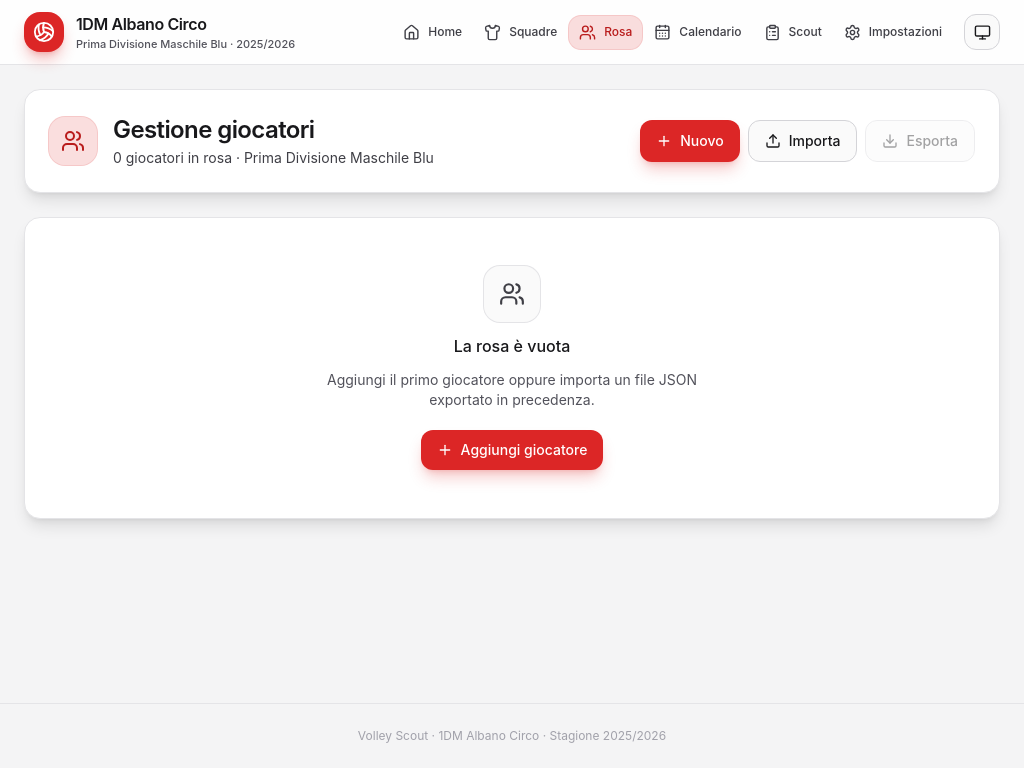
giocatori › aggiunge un giocatore e lo salva in localStorage
Click the button "Nuovo". click: (690, 141)
box: [640, 120, 740, 162]
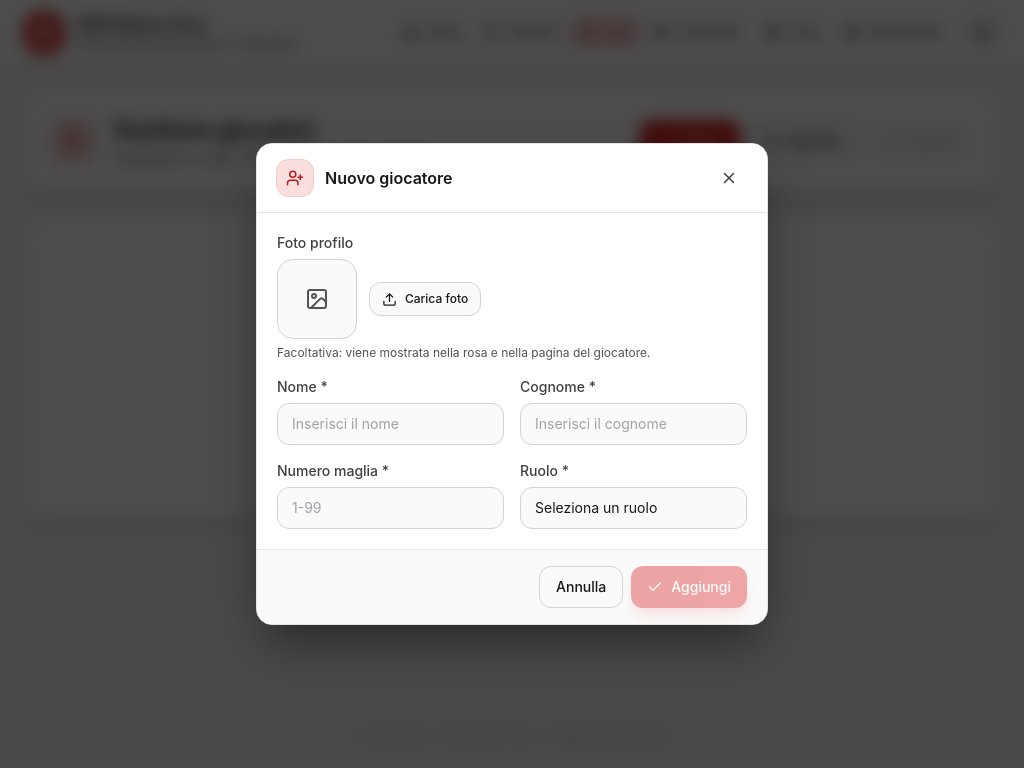
Type "mario" into the field labelled "Nome *". click: (390, 424)
box: [277, 403, 504, 445]
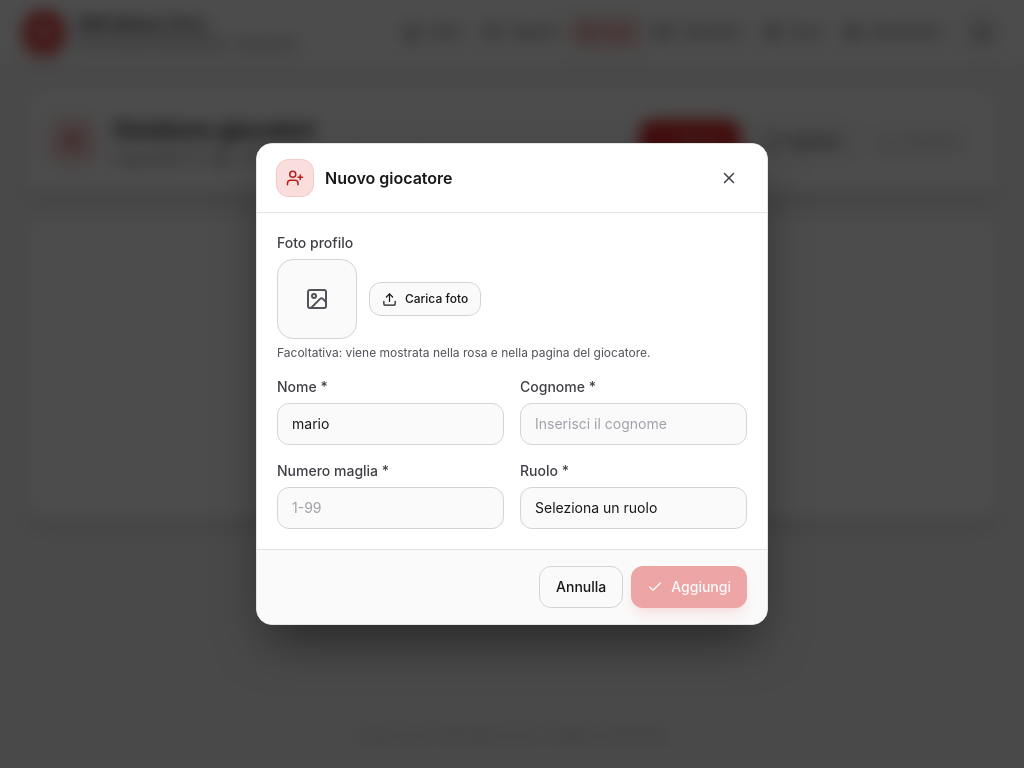
Type "rossi" into the field labelled "Cognome *". click: (634, 424)
box: [520, 403, 747, 445]
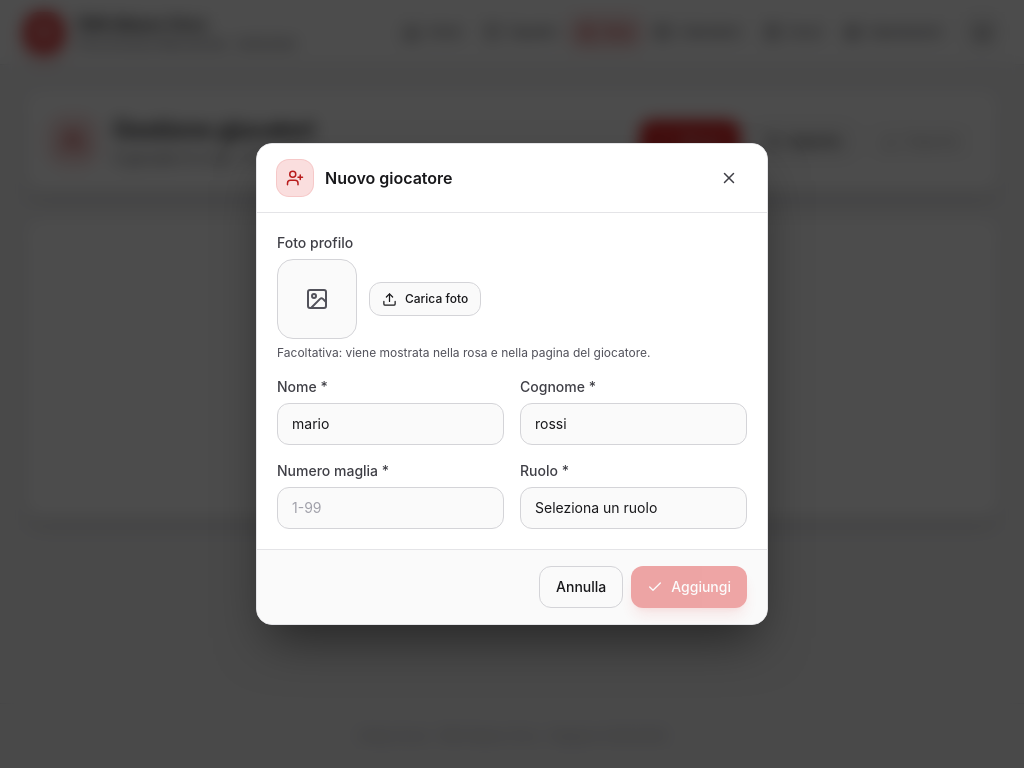
Type "10" into the number field labelled "Numero maglia *". click: (390, 508)
box: [277, 487, 504, 529]
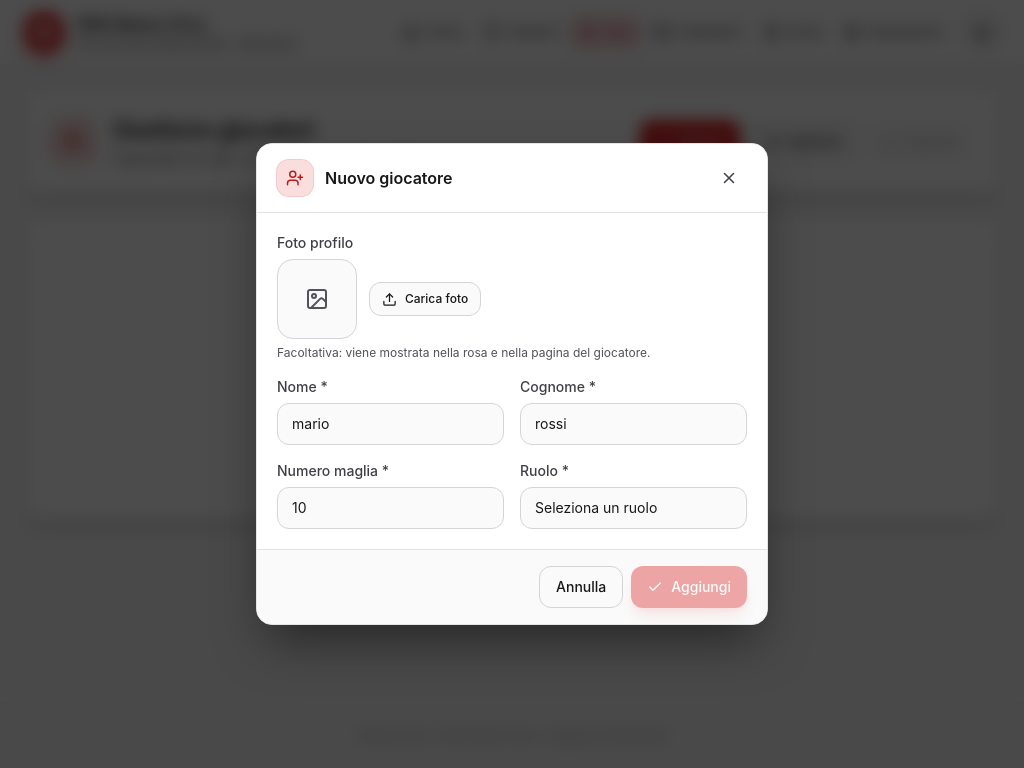
Select "Palleggiatore" in the dropdown labelled "Ruolo *". click: (634, 508)
box: [520, 487, 747, 529]
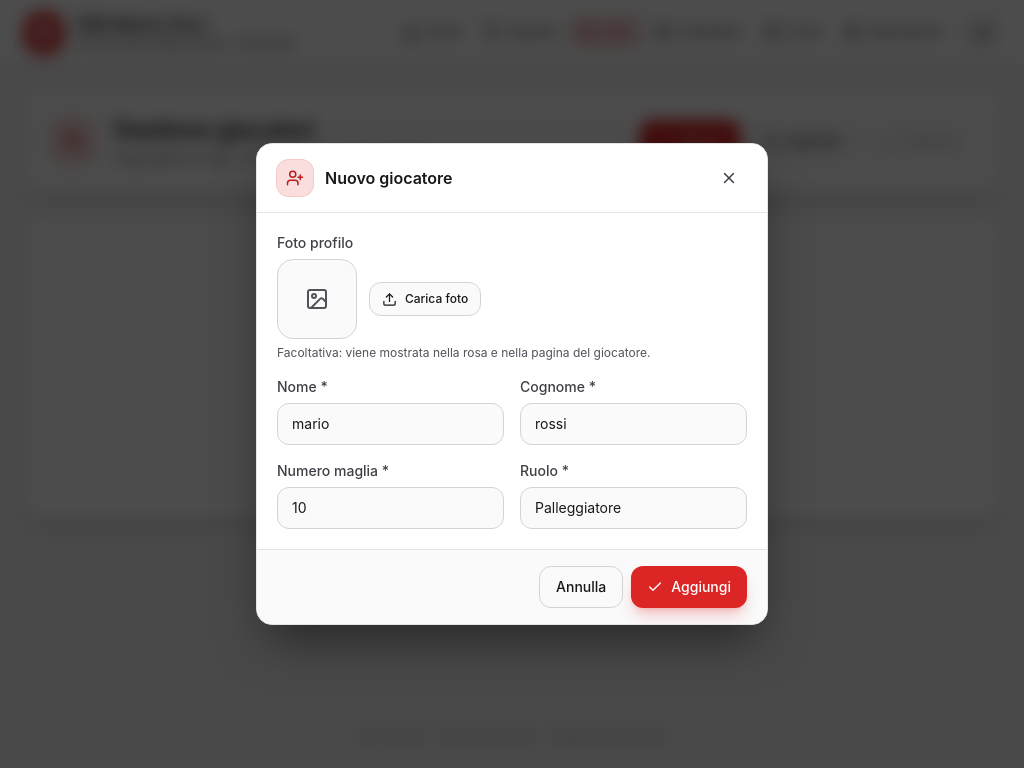
Click the button "Aggiungi". click: (689, 587)
box: [631, 566, 747, 608]
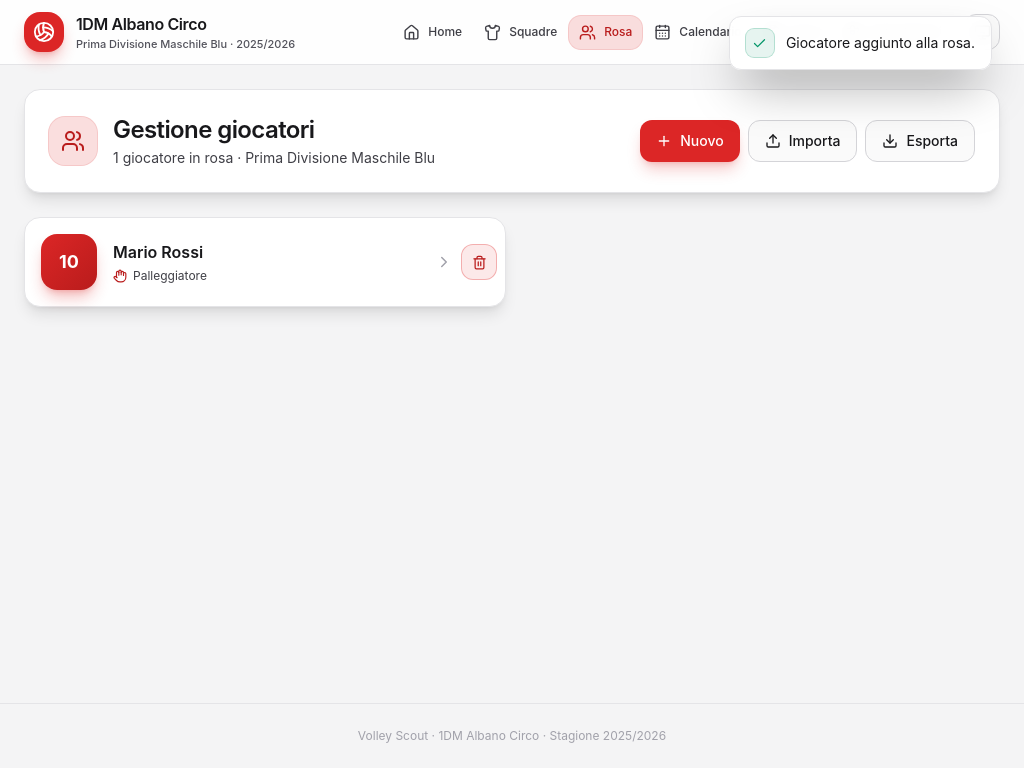
Check: the text "Mario Rossi" is shown, box [113, 242, 203, 262]
